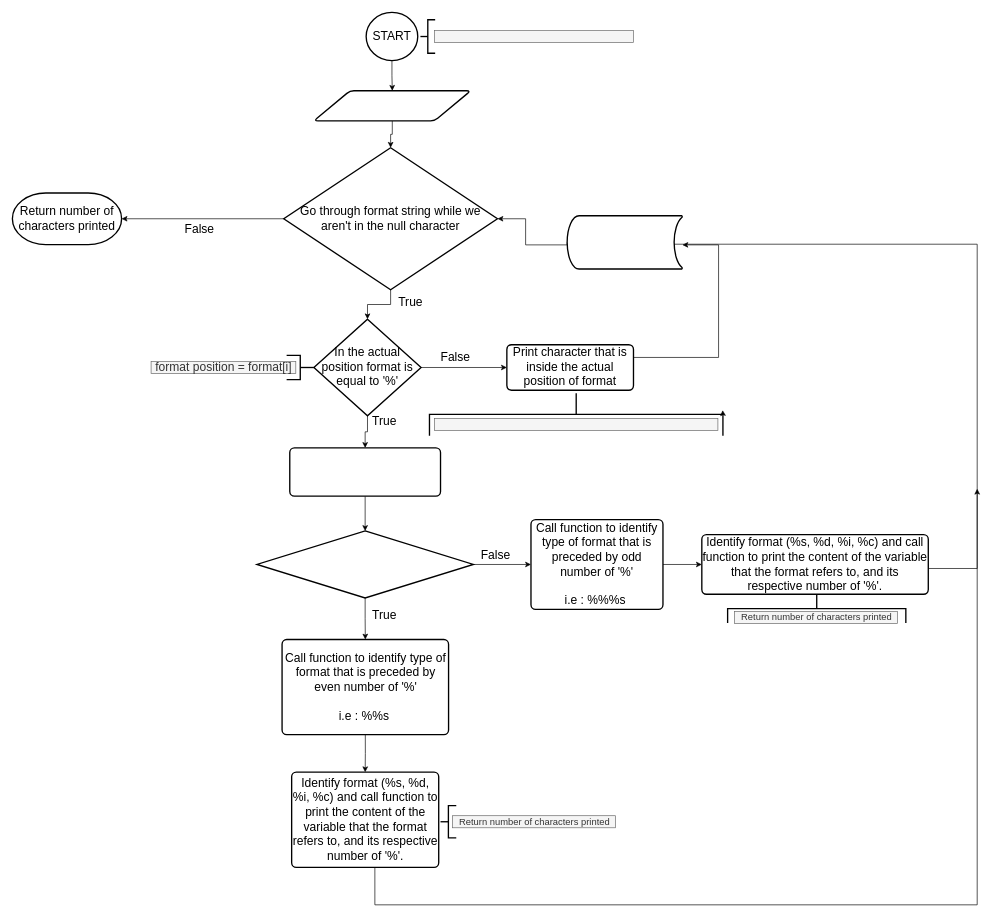
The diagram is 994 pixels wide and 922 high, and some of its shapes have lost their labels. The centre of each missing label's shape, as x and y in pixels:
Call function to determine number of percentages (%): (365,471)
input: format, ...: (392,105)
int _printf(constant char *format, ...): (533,36)
Number of characters printed increments by 1 unity: (576,424)
Number of percentages is even?: (365,564)
Varaible stores number of characters printed: (624,242)
